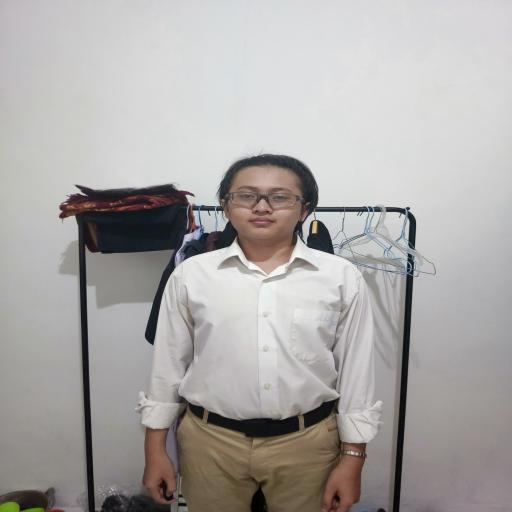celana_salah: (170, 429, 346, 512)
kemeja_benar: (162, 252, 378, 407)
sabuk_ada: (182, 405, 350, 439)
